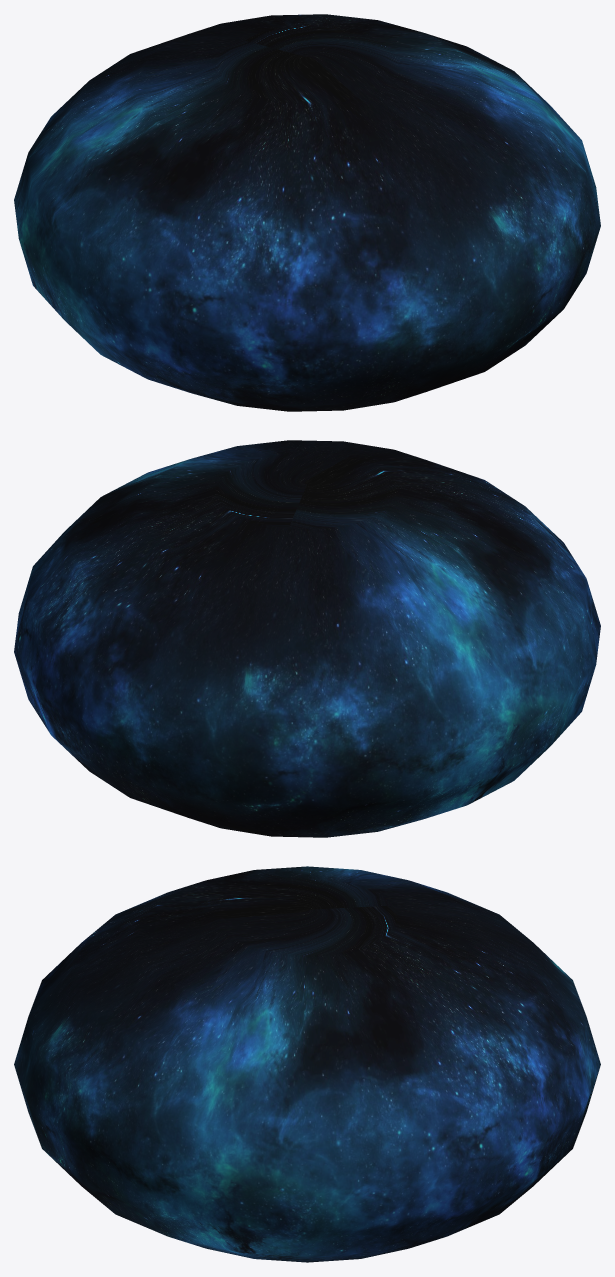
File: ts_cjdhxk02.FBX
The picture shows the model from 3 angles, top to bottom: view 1: azimuth 30°, elevation 25°; view 2: azimuth 150°, elevation 25°; view 3: azimuth 270°, elevation 25°; orthographic projection.
Visible parts, largest first — view 1: ts_cjdhxk02; view 2: ts_cjdhxk02; view 3: ts_cjdhxk02.
Part boxes in pixels (x1,y1,x2,y2): ts_cjdhxk02: (14, 14, 600, 411); ts_cjdhxk02: (14, 440, 600, 837); ts_cjdhxk02: (14, 866, 600, 1262).
Bounding box in the file's own units: 11462 × 6668 × 11462.
